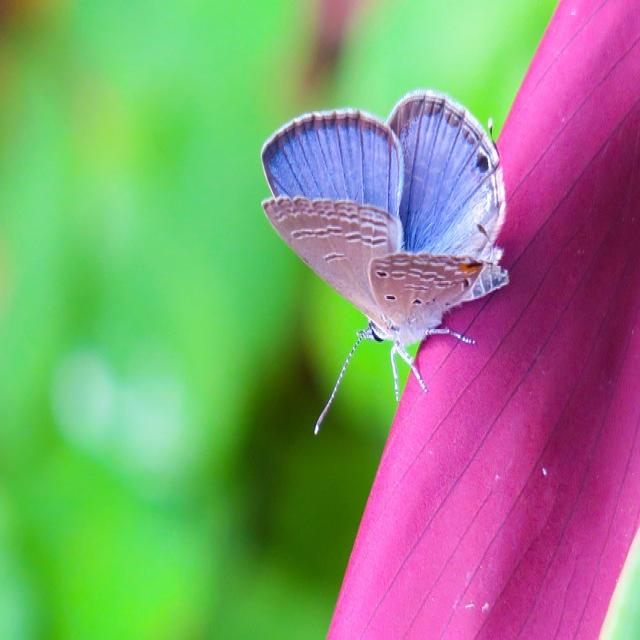butterfly: (260, 90, 511, 361)
